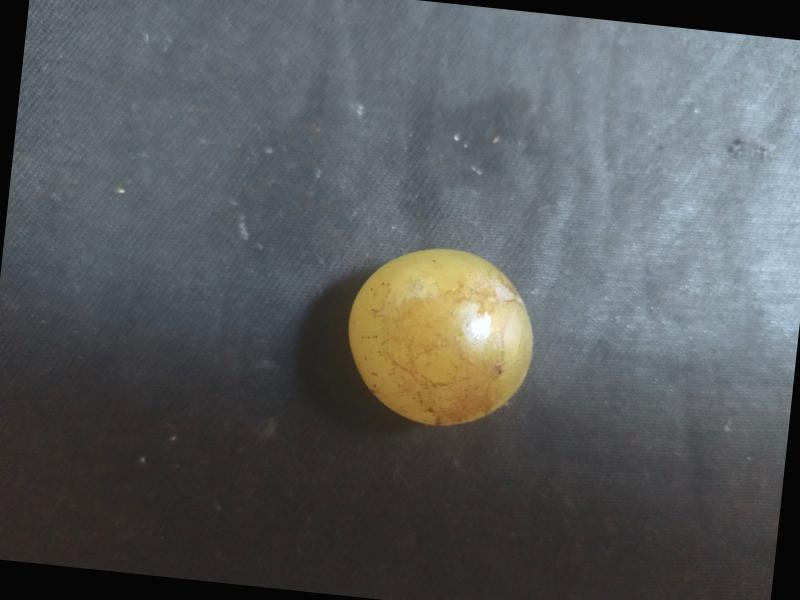Grape Rotten: (336, 235, 542, 438)
